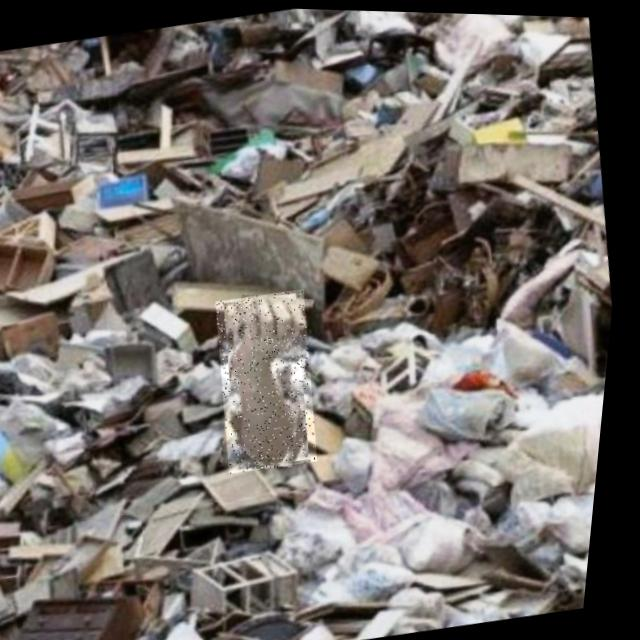Person in Rubble: (208, 284, 339, 474)
